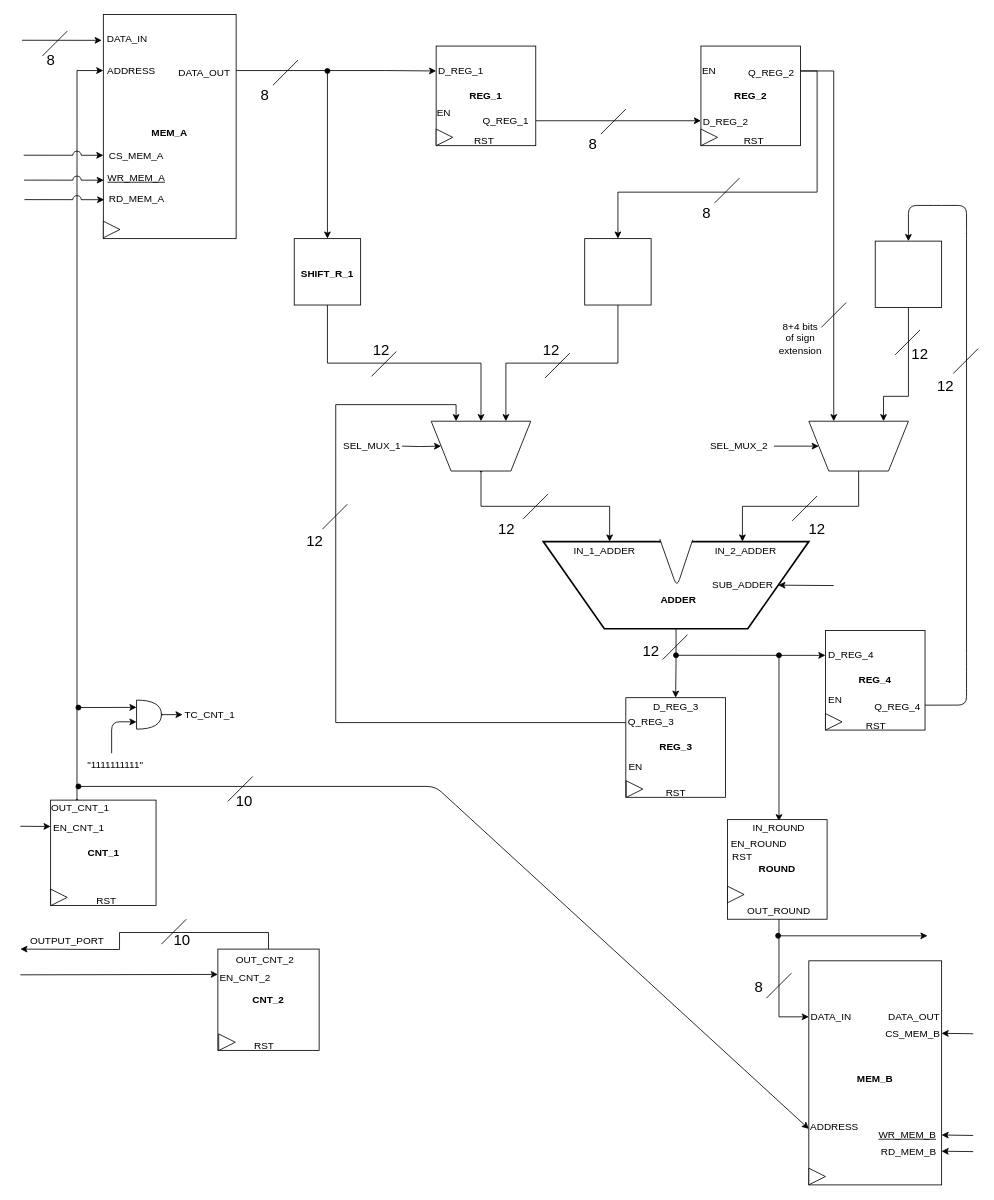
Some shapes in this 994 by 1200 pixel diagram are drawn without their labels. Here are the shapes that lost their labels. From the top down, the centre of each, then its label:
At pixel 617 271: "SHIFT_L_4".
At pixel 908 274: "SHIFT_R_2".
At pixel 480 445: "MUX_1".
At pixel 858 445: "MUX_2".
